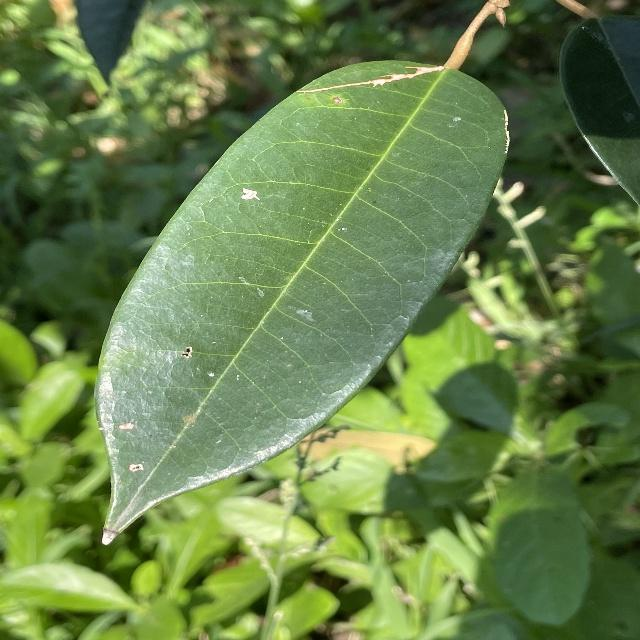No Disease: (83, 45, 517, 549)
